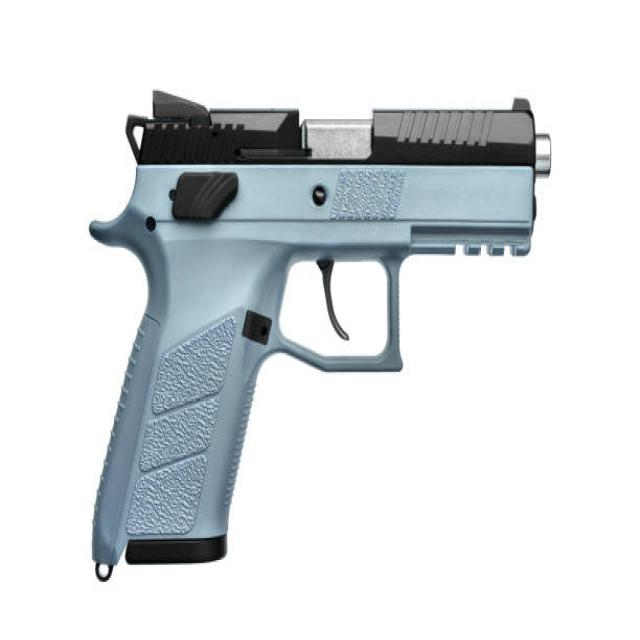pistol: (82, 87, 554, 581)
